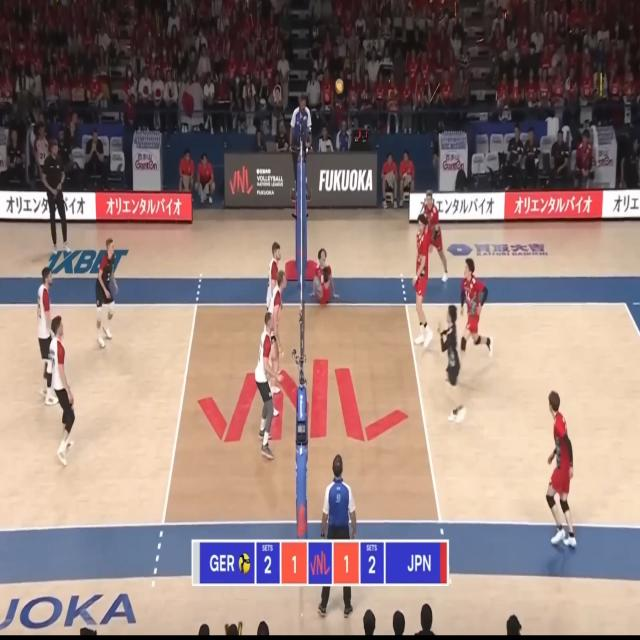ball: (335, 78, 344, 94)
